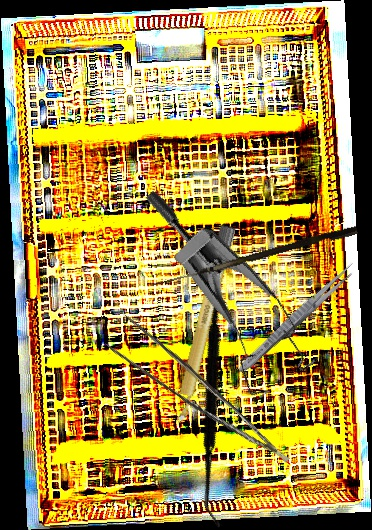Dressing Forceps: (233, 259, 360, 378)
Hook Surgical: (150, 222, 359, 296)
Scalpel Handle: (170, 223, 237, 427)
Spatula Surgical: (96, 259, 331, 528)
Speculum: (88, 187, 345, 415)
Tissue Forceps: (100, 308, 290, 490)
